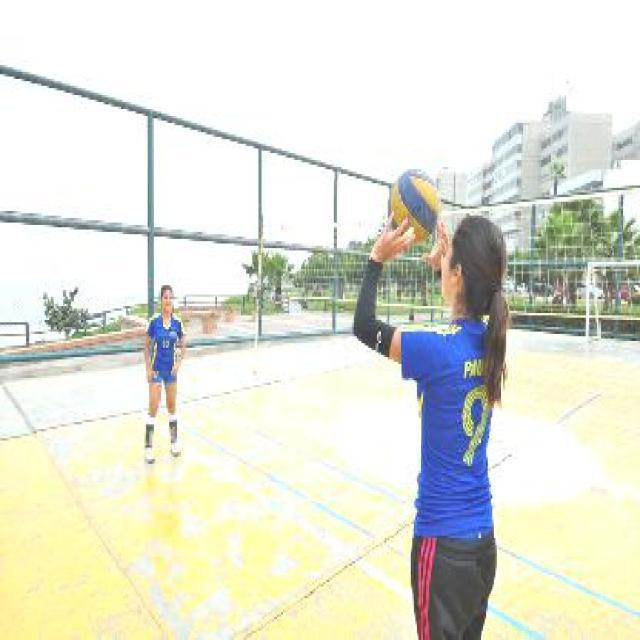volleyball: (388, 168, 440, 245)
